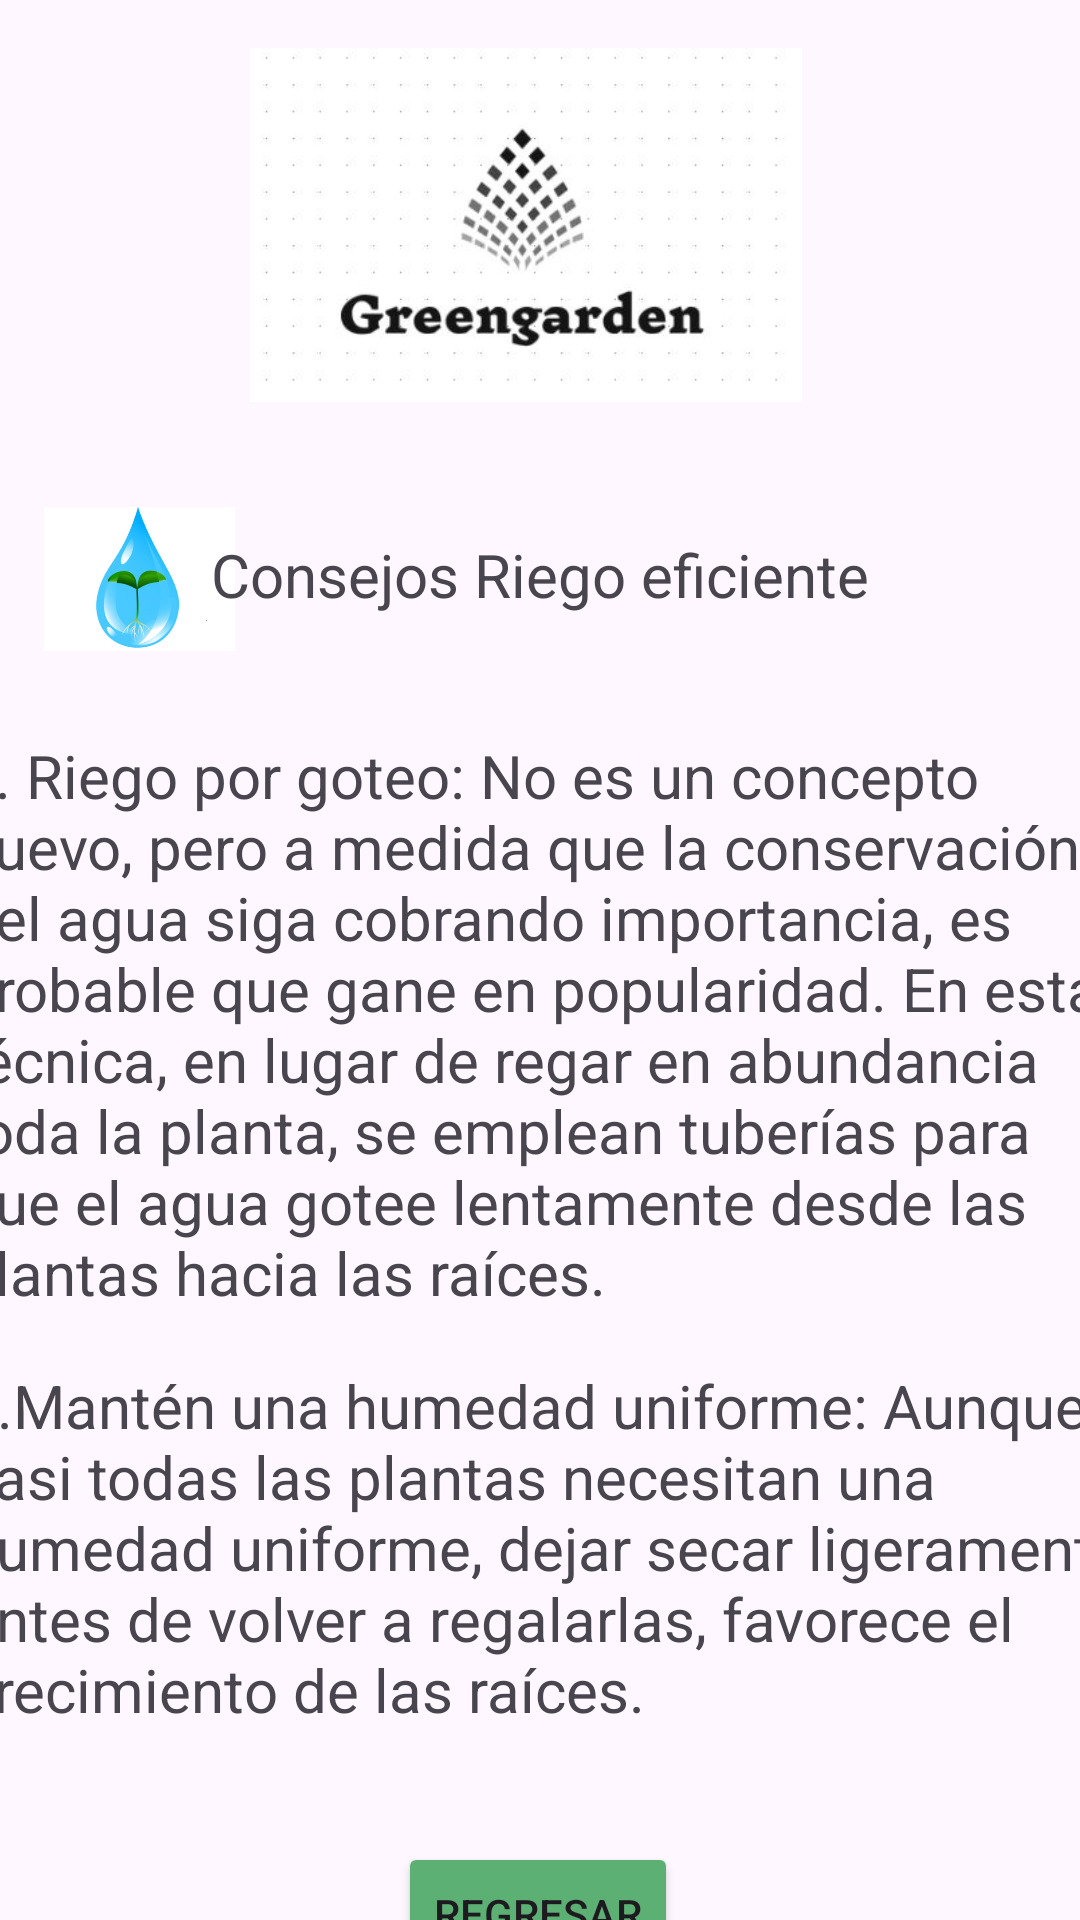

Where to tap for icons on this 1080*1920 app screen, as (x,y):
consejoriego: (151,577)
